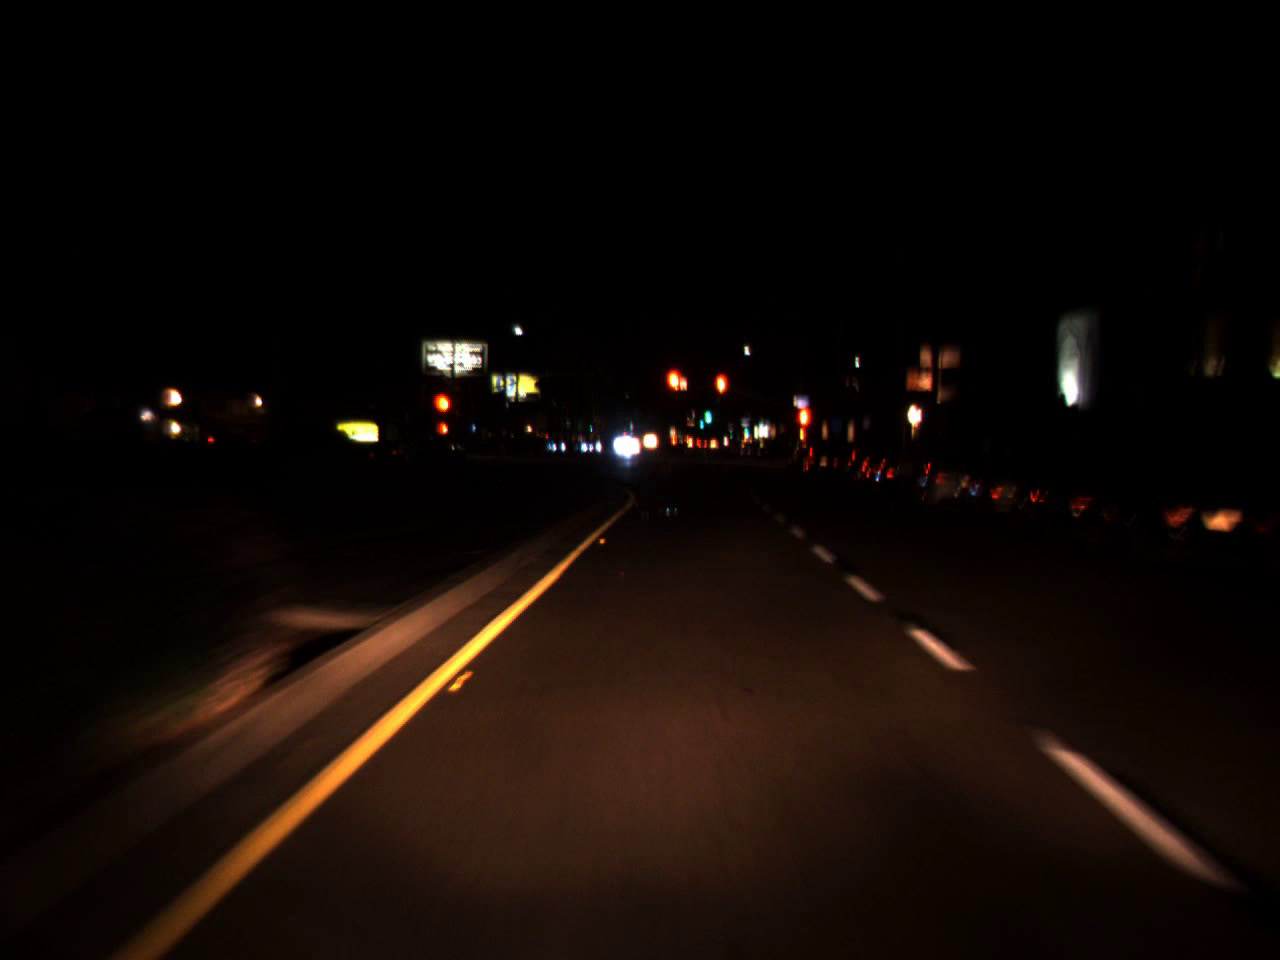go: (703, 402, 712, 426), (741, 419, 750, 437), (698, 409, 705, 430)
stop: (663, 365, 690, 419), (432, 389, 453, 437), (713, 370, 729, 418), (795, 404, 813, 444)
